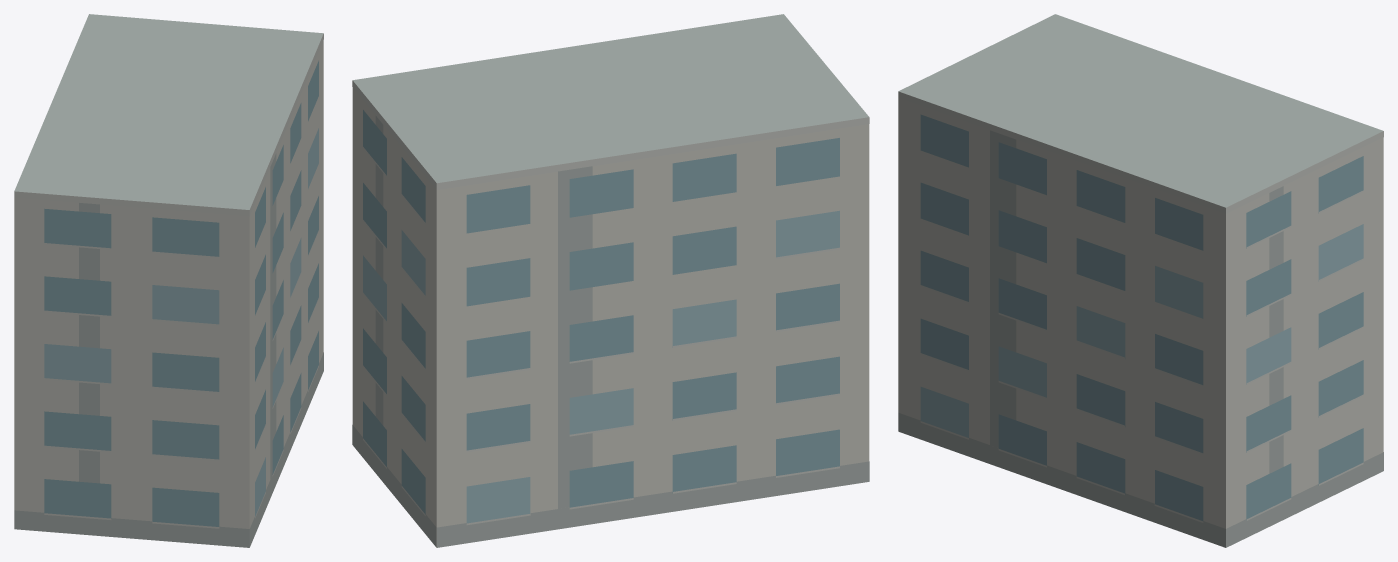
The model's file is survey-upis-32883911.glb.
The picture shows the model from 3 angles, left to right: view 1: azimuth 30°, elevation 25°; view 2: azimuth 150°, elevation 25°; view 3: azimuth 270°, elevation 25°; orthographic projection. The views are drawn at different scales.
Visible parts, largest first — view 1: survey-upis-32883911.tmp; view 2: survey-upis-32883911.tmp; view 3: survey-upis-32883911.tmp.
Boxes of the visible parts, bbox=[...] form: survey-upis-32883911.tmp: bbox=[14, 14, 323, 547]; survey-upis-32883911.tmp: bbox=[352, 14, 869, 547]; survey-upis-32883911.tmp: bbox=[898, 14, 1383, 547].
Bounding box in the file's own units: 16.07 × 13.15 × 17.02.
